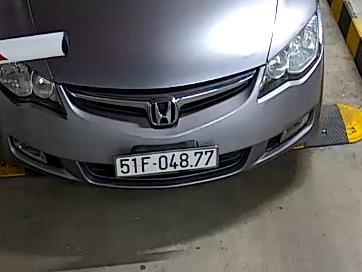car: (113, 145, 220, 178)
